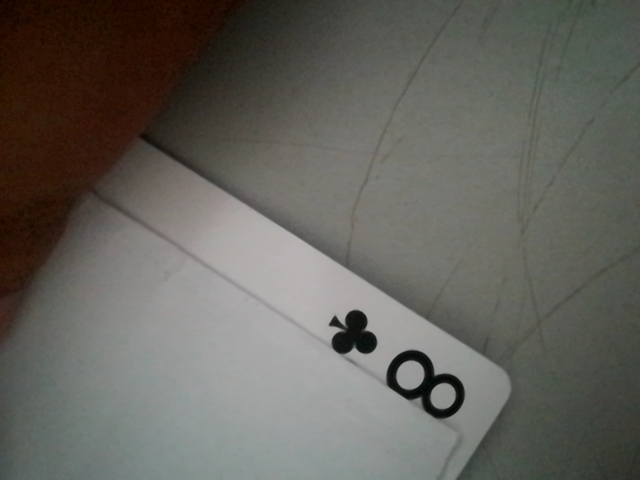mh 8: (315, 303, 482, 432)
